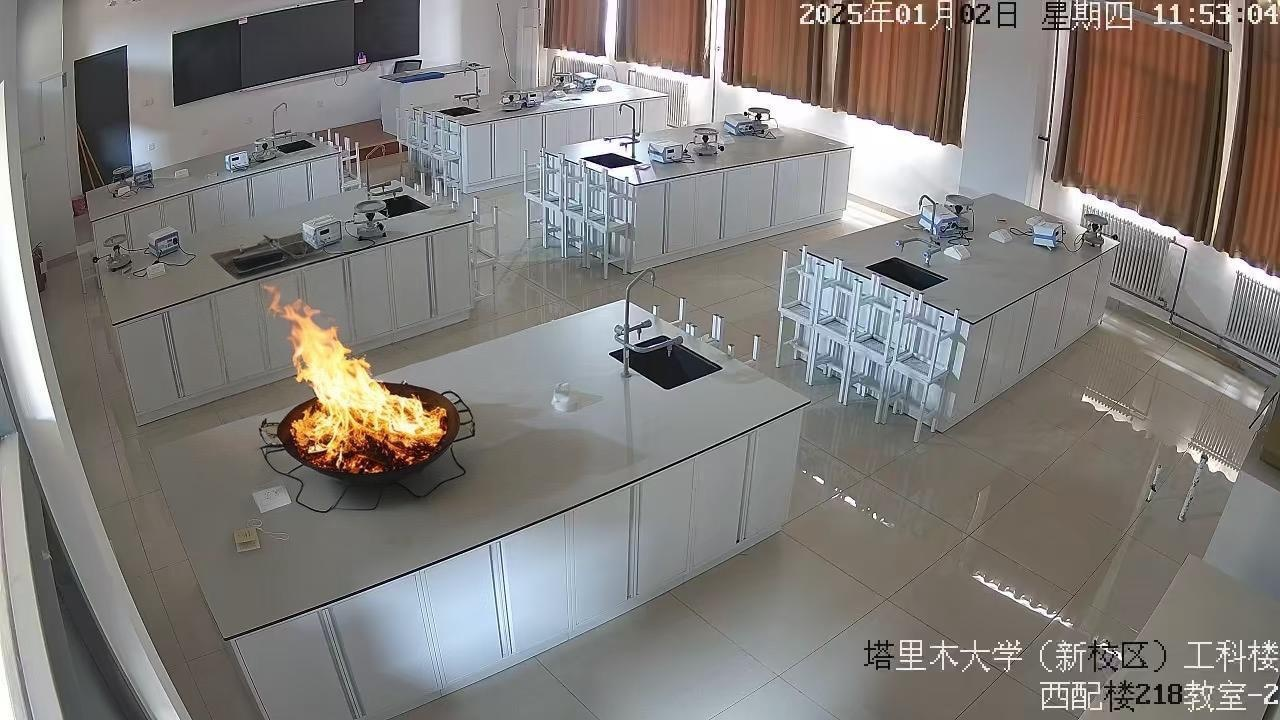fire: (244, 261, 477, 508)
